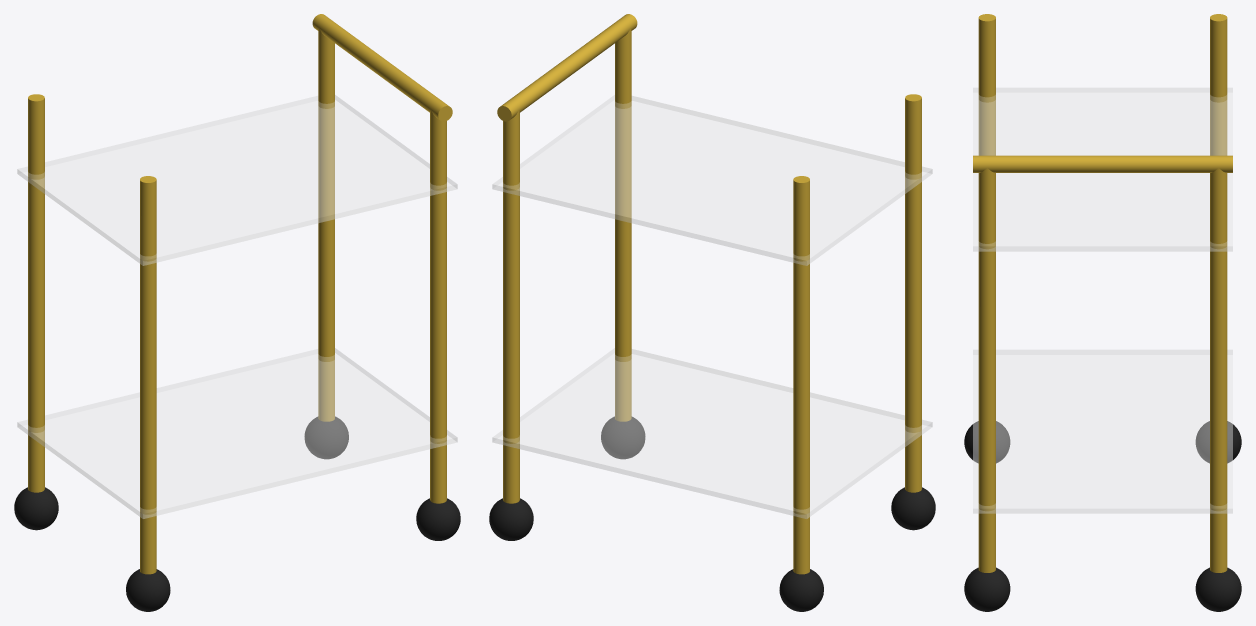
Rendered from state-default.glb.
3 views of the same model, side by side, from view 1: azimuth 30°, elevation 25°; view 2: azimuth 150°, elevation 25°; view 3: azimuth 270°, elevation 25° (orthographic). The views are drawn at different scales.
Parts seen in each view (by area): view 1: assetPrim:e9ad475608341-19c73d95aaf:bc-shelf-top, assetPrim:e9ad475608341-19c73d95aaf:bc-shelf-bottom, assetPrim:e9ad475608341-19c73d95aaf:bc-leg-fl, assetPrim:e9ad475608341-19c73d95aaf:bc-leg-bl, assetPrim:e9ad475608341-19c73d95aaf:bc-leg-br, assetPrim:e9ad475608341-19c73d95aaf:bc-leg-fr, assetPrim:e9ad475608341-19c73d95aaf:bc-handle, assetPrim:e9ad475608341-19c73d95aaf:bc-wheel-fl, assetPrim:e9ad475608341-19c73d95aaf:bc-wheel-br, assetPrim:e9ad475608341-19c73d95aaf:bc-wheel-bl, assetPrim:e9ad475608341-19c73d95aaf:bc-wheel-fr; view 2: assetPrim:e9ad475608341-19c73d95aaf:bc-shelf-top, assetPrim:e9ad475608341-19c73d95aaf:bc-shelf-bottom, assetPrim:e9ad475608341-19c73d95aaf:bc-leg-bl, assetPrim:e9ad475608341-19c73d95aaf:bc-leg-fl, assetPrim:e9ad475608341-19c73d95aaf:bc-leg-fr, assetPrim:e9ad475608341-19c73d95aaf:bc-leg-br, assetPrim:e9ad475608341-19c73d95aaf:bc-handle, assetPrim:e9ad475608341-19c73d95aaf:bc-wheel-bl, assetPrim:e9ad475608341-19c73d95aaf:bc-wheel-fr, assetPrim:e9ad475608341-19c73d95aaf:bc-wheel-fl, assetPrim:e9ad475608341-19c73d95aaf:bc-wheel-br; view 3: assetPrim:e9ad475608341-19c73d95aaf:bc-shelf-bottom, assetPrim:e9ad475608341-19c73d95aaf:bc-shelf-top, assetPrim:e9ad475608341-19c73d95aaf:bc-leg-fr, assetPrim:e9ad475608341-19c73d95aaf:bc-leg-br, assetPrim:e9ad475608341-19c73d95aaf:bc-handle, assetPrim:e9ad475608341-19c73d95aaf:bc-leg-fl, assetPrim:e9ad475608341-19c73d95aaf:bc-leg-bl, assetPrim:e9ad475608341-19c73d95aaf:bc-wheel-fr, assetPrim:e9ad475608341-19c73d95aaf:bc-wheel-br, assetPrim:e9ad475608341-19c73d95aaf:bc-wheel-fl, assetPrim:e9ad475608341-19c73d95aaf:bc-wheel-bl.
Part boxes in pixels (x1,y1,x2,y2): assetPrim:e9ad475608341-19c73d95aaf:bc-shelf-top: (17,95,457,265); assetPrim:e9ad475608341-19c73d95aaf:bc-shelf-bottom: (17,348,457,518); assetPrim:e9ad475608341-19c73d95aaf:bc-leg-fl: (28,94,44,492); assetPrim:e9ad475608341-19c73d95aaf:bc-leg-bl: (140,176,156,574); assetPrim:e9ad475608341-19c73d95aaf:bc-leg-br: (430,111,446,503); assetPrim:e9ad475608341-19c73d95aaf:bc-leg-fr: (318,29,334,421); assetPrim:e9ad475608341-19c73d95aaf:bc-handle: (312,14,452,121); assetPrim:e9ad475608341-19c73d95aaf:bc-wheel-fl: (14,487,58,530); assetPrim:e9ad475608341-19c73d95aaf:bc-wheel-br: (416,498,460,540); assetPrim:e9ad475608341-19c73d95aaf:bc-wheel-bl: (126,569,170,611); assetPrim:e9ad475608341-19c73d95aaf:bc-wheel-fr: (304,416,348,459); assetPrim:e9ad475608341-19c73d95aaf:bc-shelf-top: (492,95,932,265); assetPrim:e9ad475608341-19c73d95aaf:bc-shelf-bottom: (492,348,932,518); assetPrim:e9ad475608341-19c73d95aaf:bc-leg-bl: (905,94,921,492); assetPrim:e9ad475608341-19c73d95aaf:bc-leg-fl: (793,176,809,574); assetPrim:e9ad475608341-19c73d95aaf:bc-leg-fr: (503,111,519,503); assetPrim:e9ad475608341-19c73d95aaf:bc-leg-br: (615,29,631,421); assetPrim:e9ad475608341-19c73d95aaf:bc-handle: (497,14,637,121); assetPrim:e9ad475608341-19c73d95aaf:bc-wheel-bl: (891,487,935,530); assetPrim:e9ad475608341-19c73d95aaf:bc-wheel-fr: (489,498,533,540); assetPrim:e9ad475608341-19c73d95aaf:bc-wheel-fl: (779,569,823,611); assetPrim:e9ad475608341-19c73d95aaf:bc-wheel-br: (601,416,645,459); assetPrim:e9ad475608341-19c73d95aaf:bc-shelf-bottom: (973,350,1232,513); assetPrim:e9ad475608341-19c73d95aaf:bc-shelf-top: (973,88,1232,251); assetPrim:e9ad475608341-19c73d95aaf:bc-leg-fr: (1210,168,1227,572); assetPrim:e9ad475608341-19c73d95aaf:bc-leg-br: (978,168,995,572); assetPrim:e9ad475608341-19c73d95aaf:bc-handle: (973,155,1232,172); assetPrim:e9ad475608341-19c73d95aaf:bc-leg-fl: (1210,14,1227,155); assetPrim:e9ad475608341-19c73d95aaf:bc-leg-bl: (978,14,995,155); assetPrim:e9ad475608341-19c73d95aaf:bc-wheel-fr: (1195,567,1241,611); assetPrim:e9ad475608341-19c73d95aaf:bc-wheel-br: (964,567,1010,611); assetPrim:e9ad475608341-19c73d95aaf:bc-wheel-fl: (1195,421,1241,463); assetPrim:e9ad475608341-19c73d95aaf:bc-wheel-bl: (964,421,1010,463).
Bounding box in the file's own units: 0.68 × 0.865 × 0.48.
